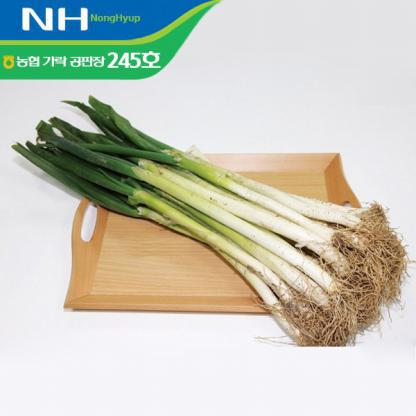green onion: (16, 103, 398, 342)
